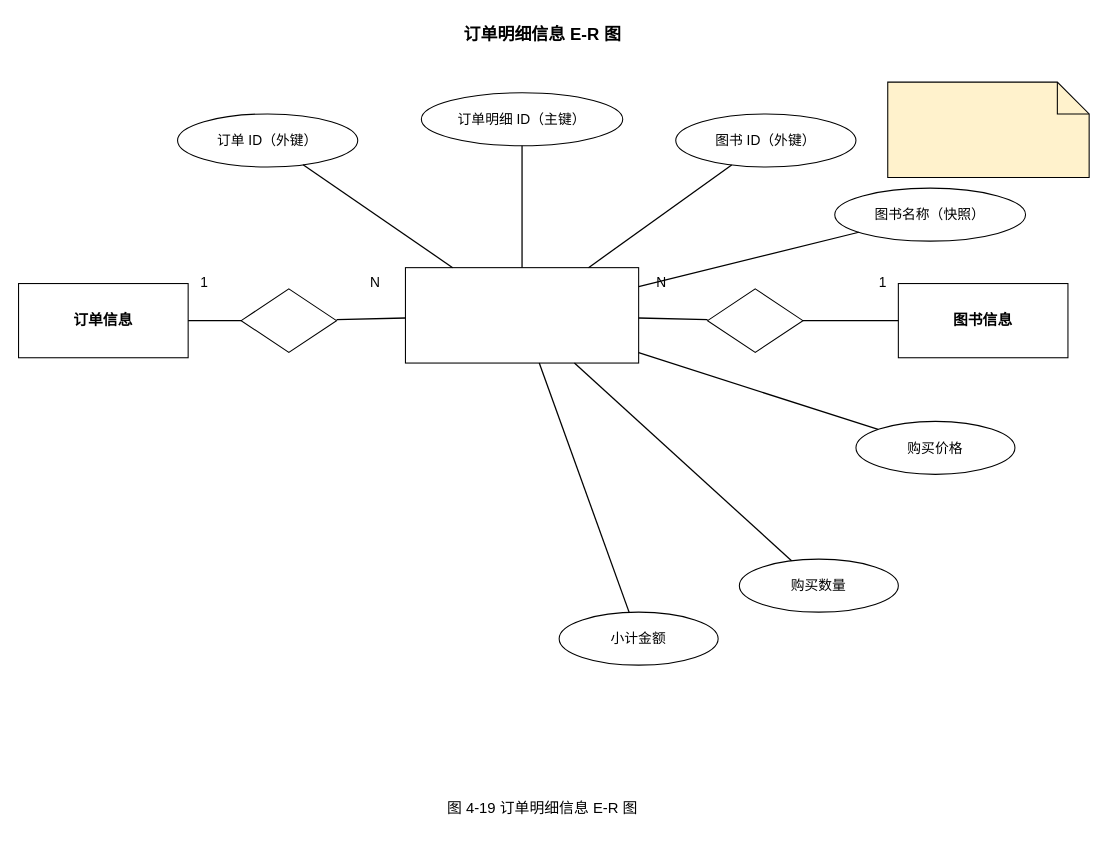
The diagram is 1108 pixels wide and 842 high, and some of its shapes have lost their labels. Here are the shapes that lost their labels. From the top down, the centre of each, then its label:
the point at 988,129: 说明：图书名称、购买价格采用冗余存储，用于保留下单时商品快照
the point at 288,320: 包含
the point at 521,315: 订单明细信息
the point at 754,320: 对应
